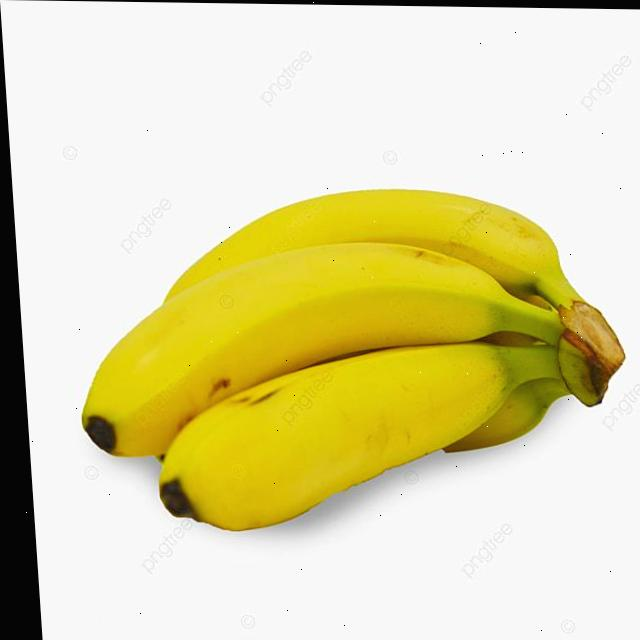banana: (48, 140, 630, 559)
